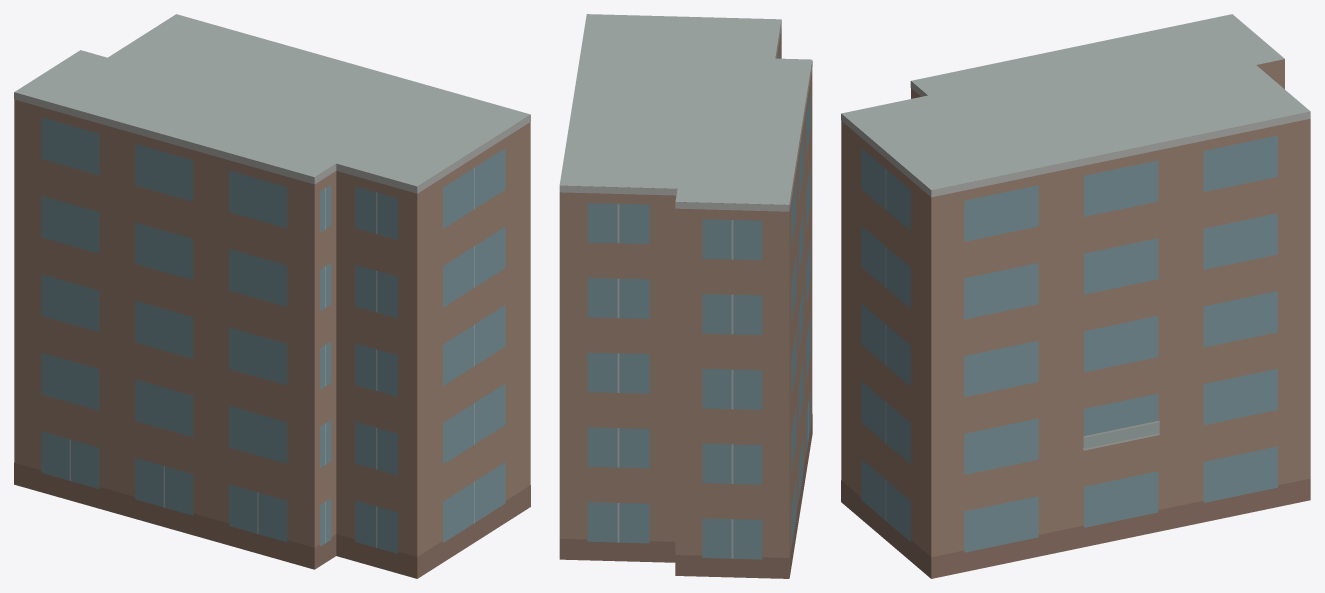
File: survey-upis-32964096.glb
3 renders of one model, left to right at view 1: azimuth 30°, elevation 25°; view 2: azimuth 150°, elevation 25°; view 3: azimuth 270°, elevation 25°, orthographic. The views are drawn at different scales.
Parts seen in each view (by area): view 1: survey-upis-32964096.tmp; view 2: survey-upis-32964096.tmp; view 3: survey-upis-32964096.tmp.
Boxes of the visible parts, <box> form: survey-upis-32964096.tmp: <box>14,14,530,578</box>; survey-upis-32964096.tmp: <box>559,14,812,578</box>; survey-upis-32964096.tmp: <box>841,14,1310,578</box>.
Bounding box in the file's own units: 12.95 × 13.3 × 14.57.
